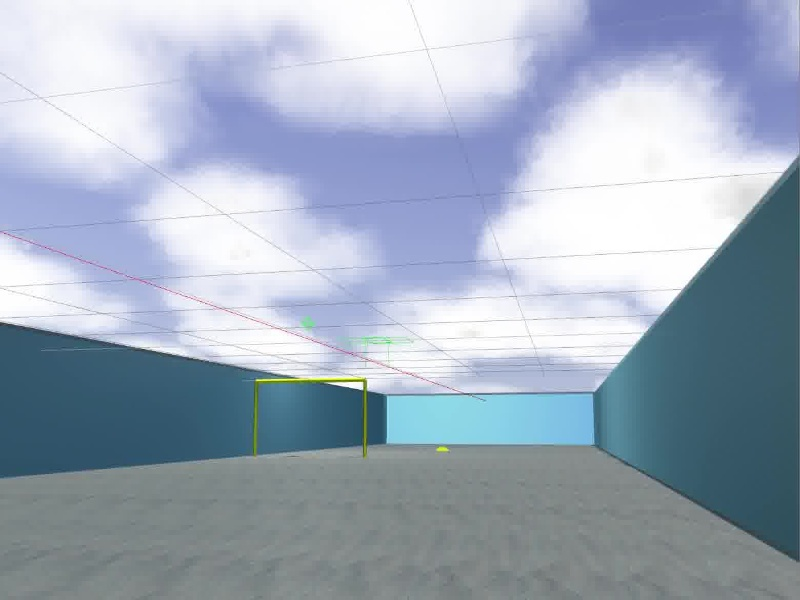gate: (251, 377, 369, 458)
